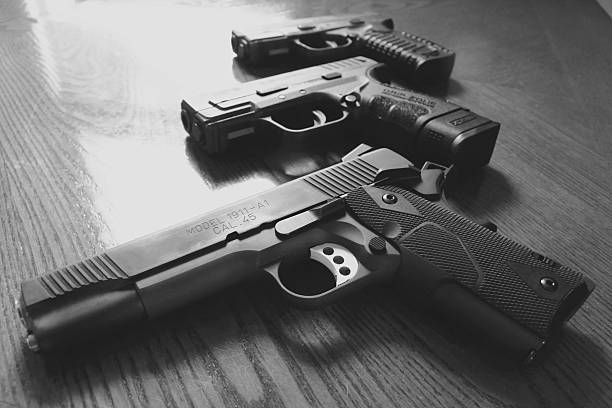pistol: (16, 140, 600, 388), (180, 53, 505, 175), (228, 14, 459, 75)
